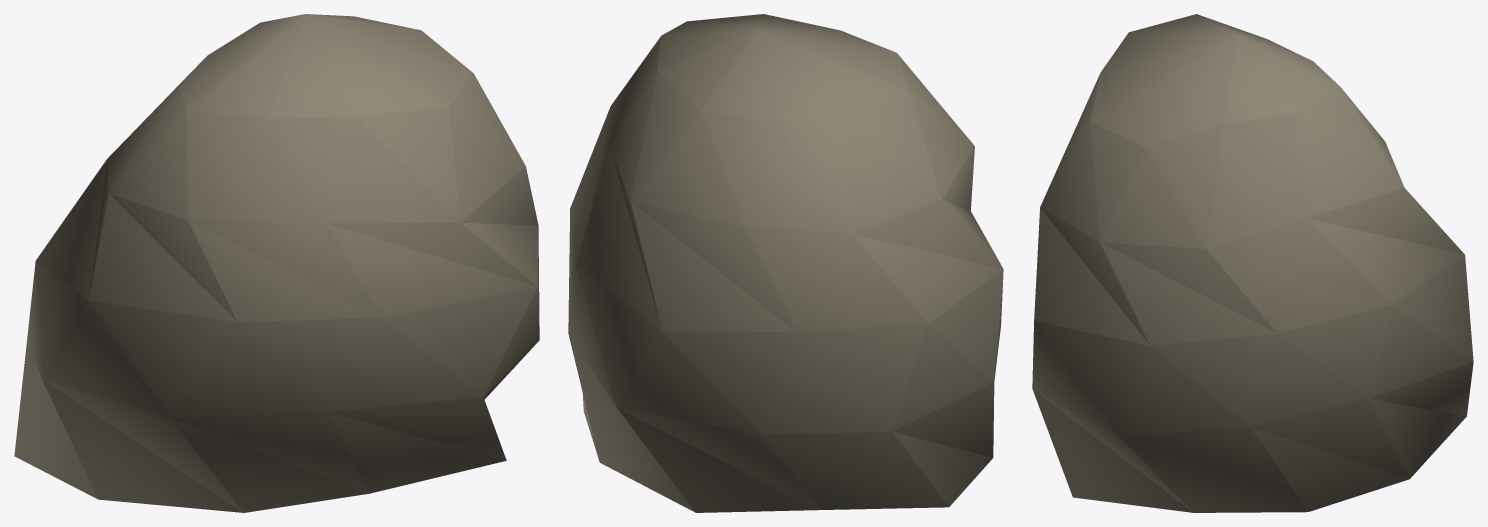
Rendered from boulder-v1.lod2.glb.
The picture shows the model from 3 angles, left to right: view 1: azimuth 30°, elevation 25°; view 2: azimuth 150°, elevation 25°; view 3: azimuth 270°, elevation 25°; orthographic projection. The views are drawn at different scales.
Visible parts, largest first — view 1: boulder-v1.lod2; view 2: boulder-v1.lod2; view 3: boulder-v1.lod2.
Part boxes in pixels (bbox=[...]): boulder-v1.lod2: bbox=[14, 14, 539, 512]; boulder-v1.lod2: bbox=[568, 14, 1003, 512]; boulder-v1.lod2: bbox=[1032, 14, 1473, 512].
Size of the model in its own units: 3.16 by 2.8 by 2.76.
